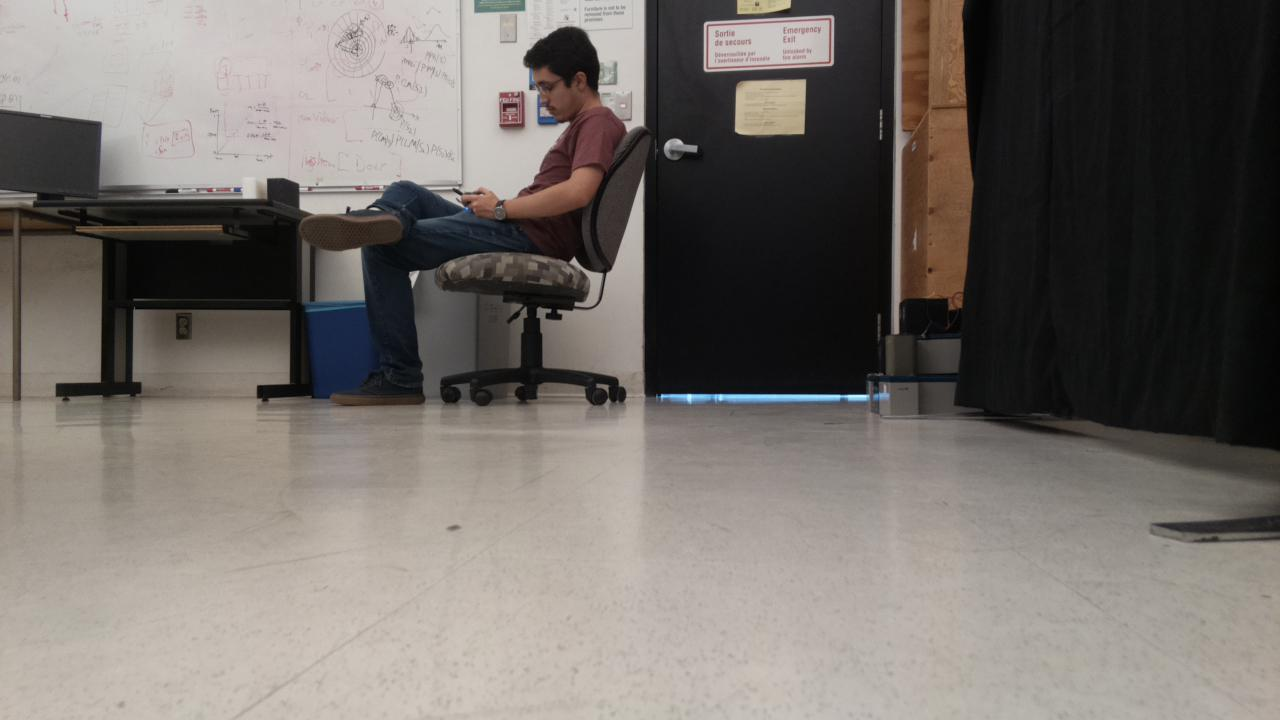door: (656, 0, 881, 393)
person: (296, 25, 627, 407)
sign: (705, 16, 833, 70)
tvmonitor: (0, 110, 101, 196)
